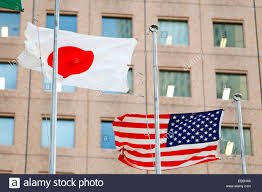Japanese Flag: (17, 20, 140, 94)
